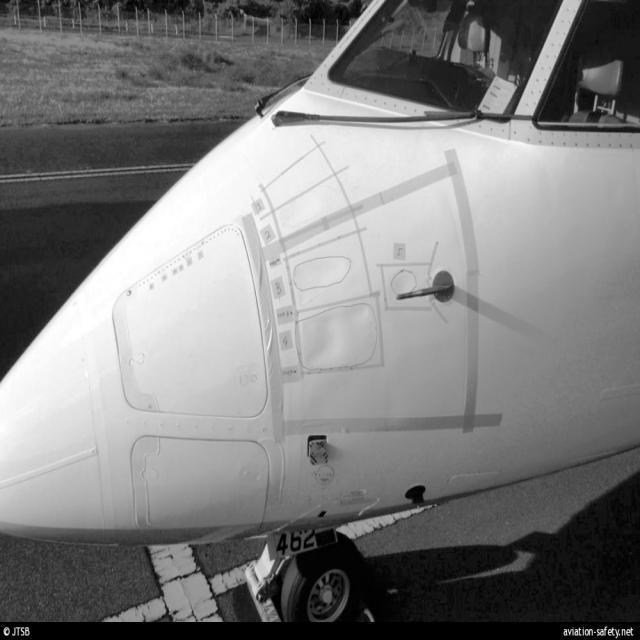dent: (297, 298, 372, 377)
